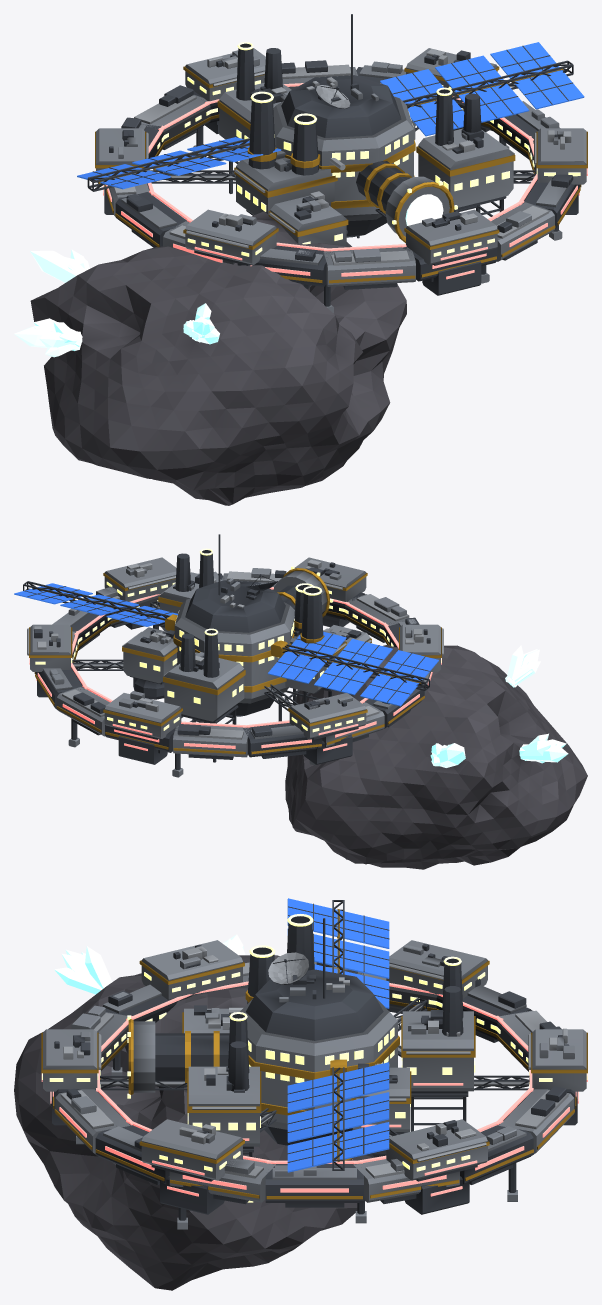
The model's file is station_l3.glb.
3 renders of one model, top to bottom at view 1: azimuth 30°, elevation 25°; view 2: azimuth 150°, elevation 25°; view 3: azimuth 270°, elevation 25°, orthographic. The views are drawn at different scales.
Visible parts, largest first — view 1: station_l3, spin_ring; view 2: station_l3, spin_ring; view 3: station_l3, spin_ring.
Part boxes in pixels (x1=…): station_l3: x1=14, y1=14, x2=584, y2=505; spin_ring: x1=95, y1=48, x2=587, y2=313; station_l3: x1=14, y1=534, x2=587, y2=869; spin_ring: x1=27, y1=557, x2=443, y2=777; station_l3: x1=14, y1=898, x2=475, y2=1290; spin_ring: x1=41, y1=940, x2=587, y2=1229.
Bounding box in the file's own units: 32.43 × 20.28 × 24.13.
